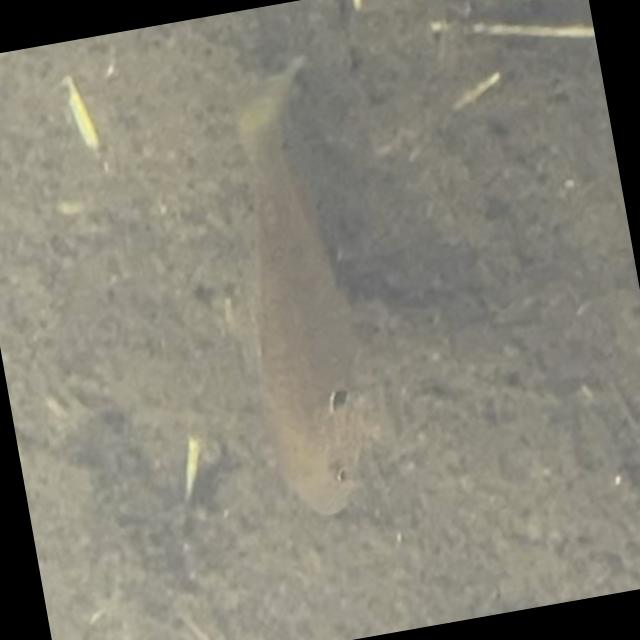Gunes Levregi: (198, 47, 402, 525)
